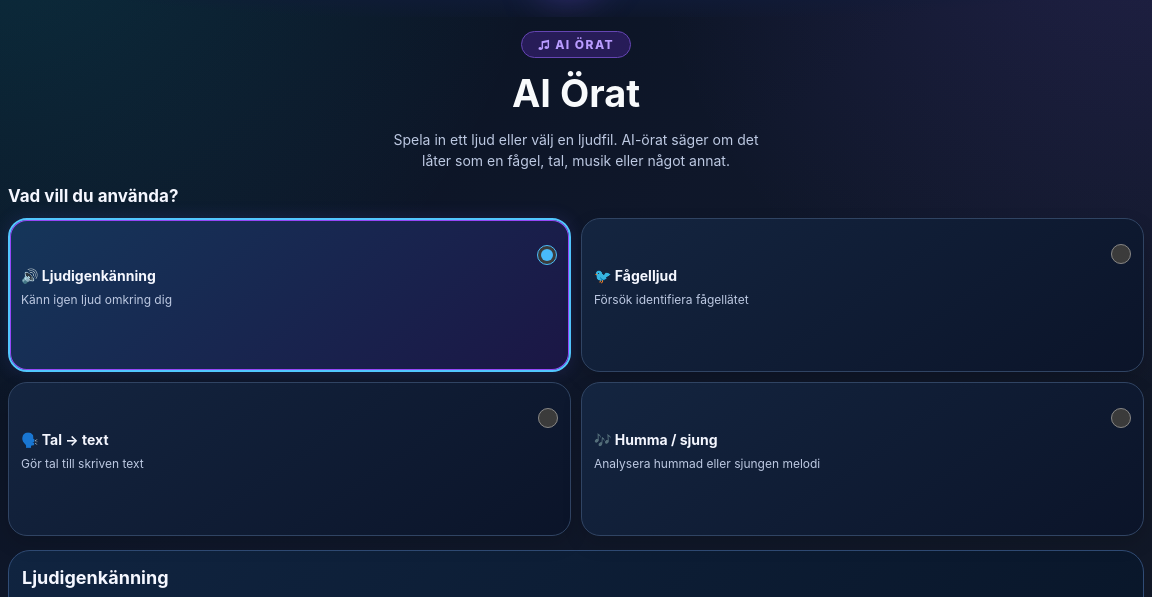
Test: AI Örat Tal → text (AI-EAR-2C) › browser error not-allowed → alert "Mikrofonen är inte tillåten" with Försök igen that starts a new session
Click the radio button labelled "🗣️ Tal → text Gör tal till skriven text" at (548, 418), box [538,396,558,440]
(page scrolled)
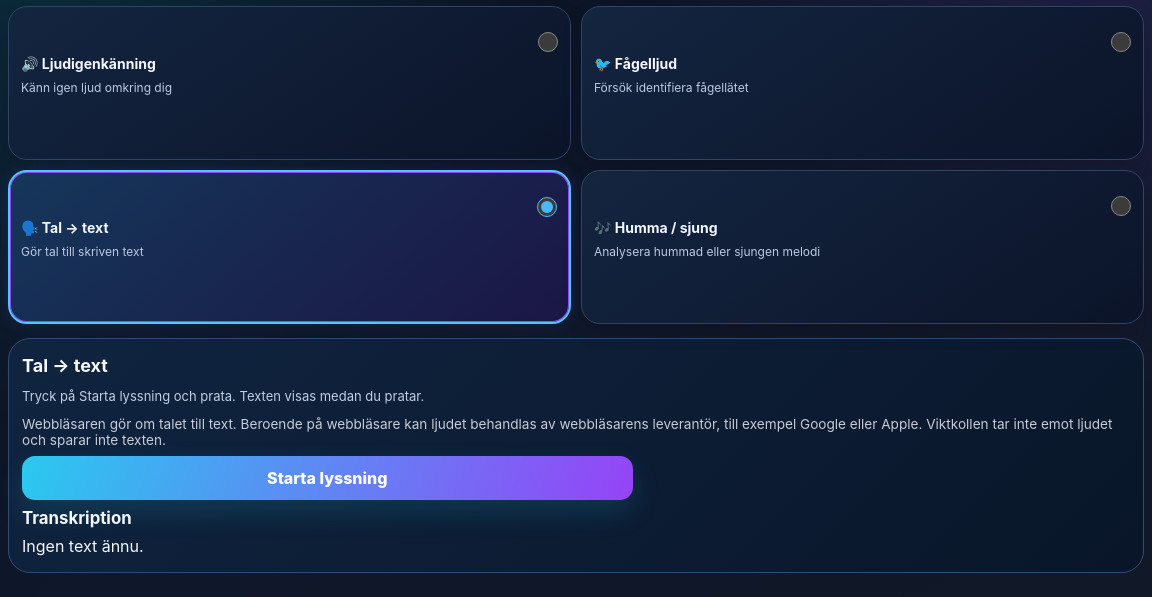
Click the button "Starta lyssning" at (327, 478), box [22,456,632,500]
(page scrolled)
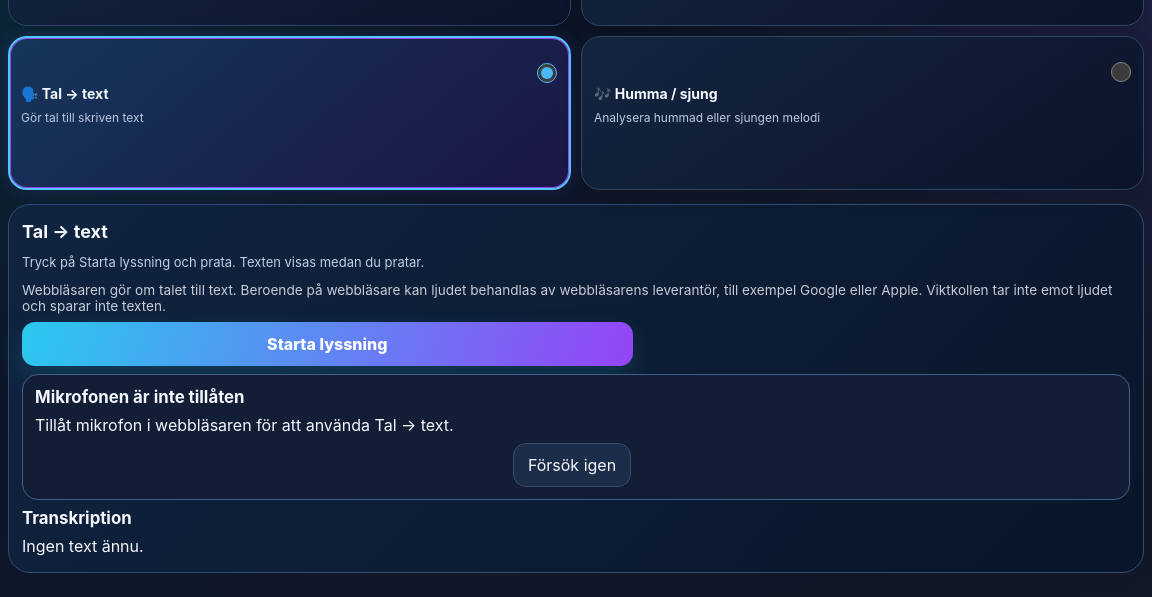
Check: the button "Starta lyssning" is shown, box [22,322,632,366]
Check: the heading "Mikrofonen är inte tillåten" is shown, box [35,387,245,407]
Click the button "Försök igen" at (572, 465), box [513,443,631,487]
(page scrolled)
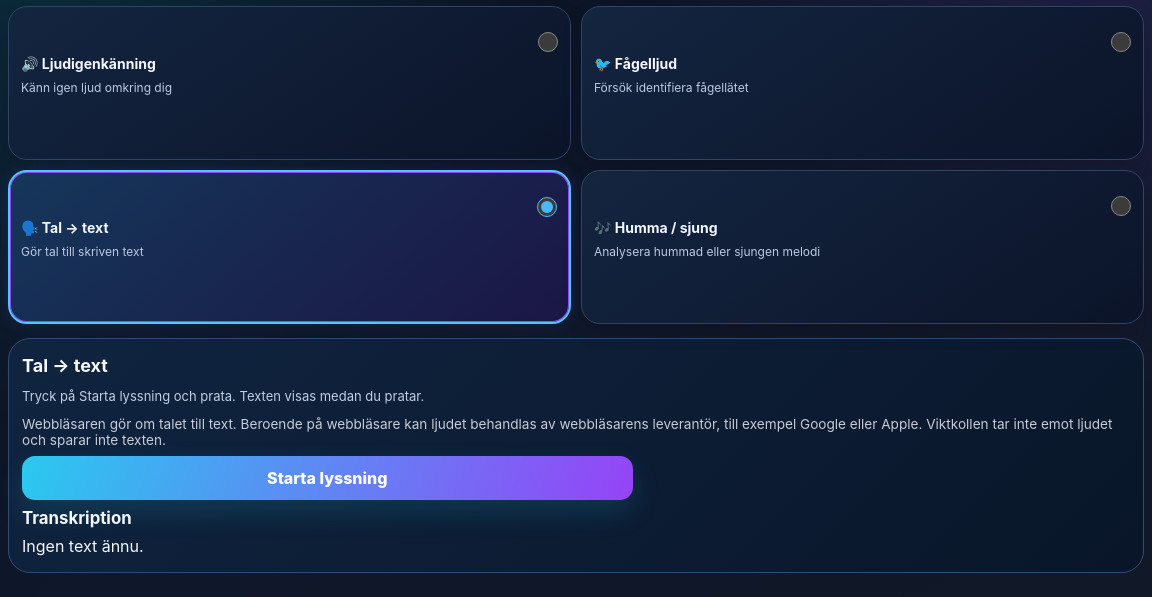
Check: the message "Mikrofonen är inte tillåten Tillåt mikrofon i webbläsaren för att använda Tal →" is gone
